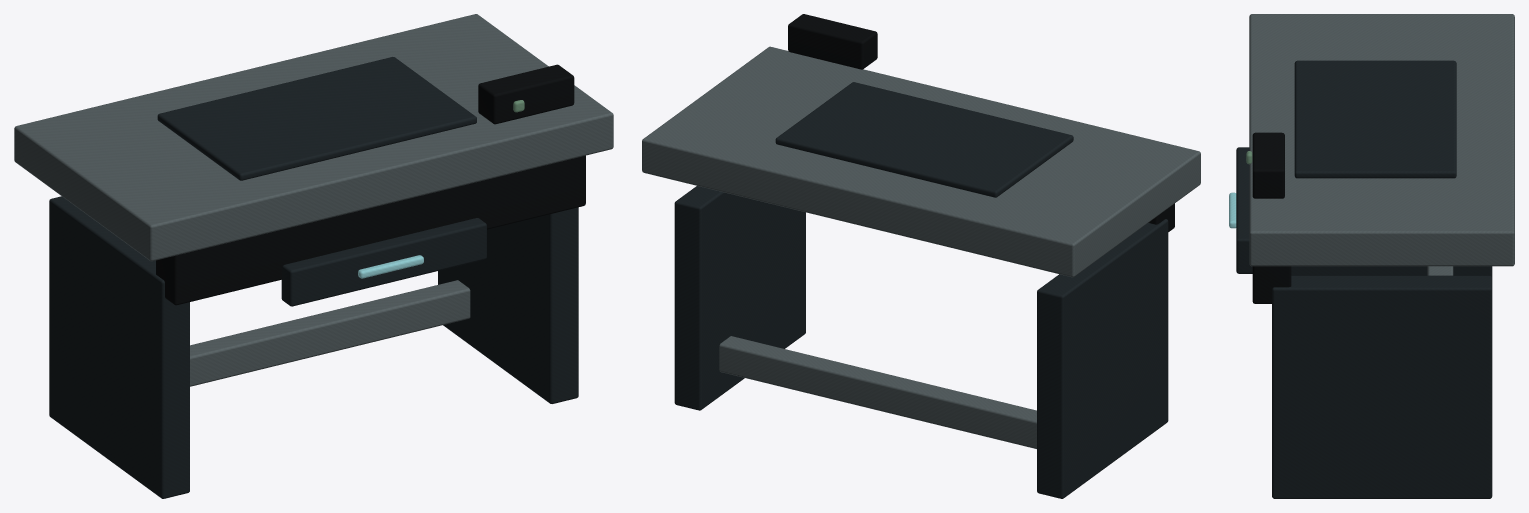
File: Workbench.glb
3 renders of one model, left to right at view 1: azimuth 30°, elevation 25°; view 2: azimuth 150°, elevation 25°; view 3: azimuth 270°, elevation 25°, orthographic. The views are drawn at different scales.
Visible parts, largest first — view 1: Workbench_Mesh; view 2: Workbench_Mesh; view 3: Workbench_Mesh.
Part boxes in pixels (x1,y1,x2,y2): Workbench_Mesh: [14, 14, 613, 498]; Workbench_Mesh: [642, 14, 1200, 498]; Workbench_Mesh: [1229, 14, 1514, 498].
Bounding box in the file's own units: 1.6 × 1.1 × 0.8825.
5 materials, 5 textured.
